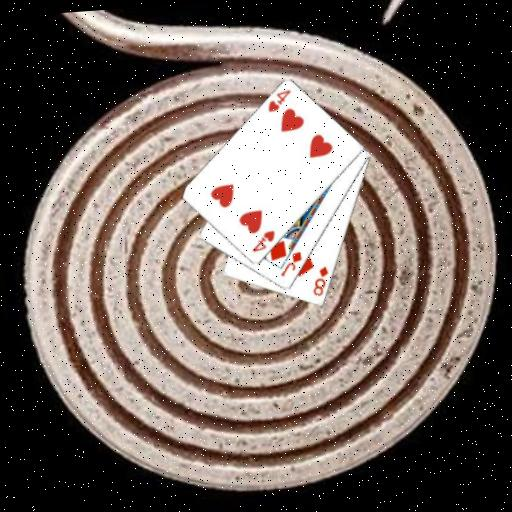4H: (264, 87, 294, 114), (248, 228, 277, 255)
8D: (308, 263, 332, 298)
JD: (276, 249, 305, 279)
